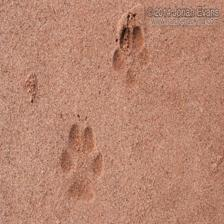coyote: (54, 122, 109, 208), (111, 14, 149, 87)
